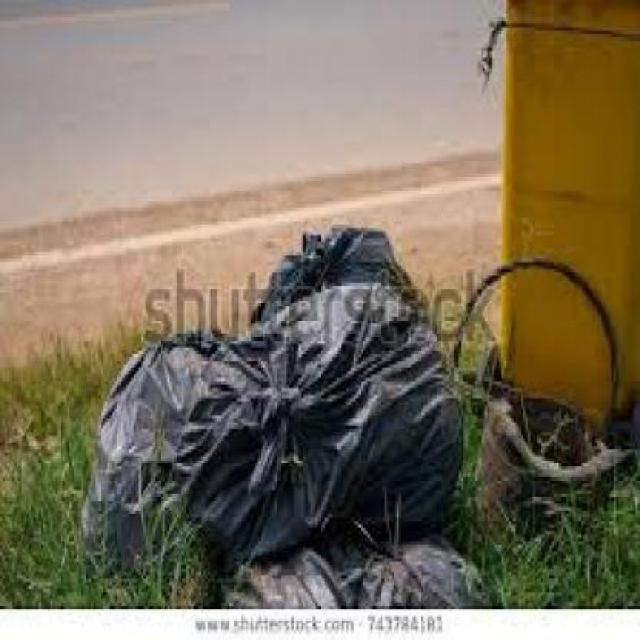garbage: (103, 219, 447, 596)
